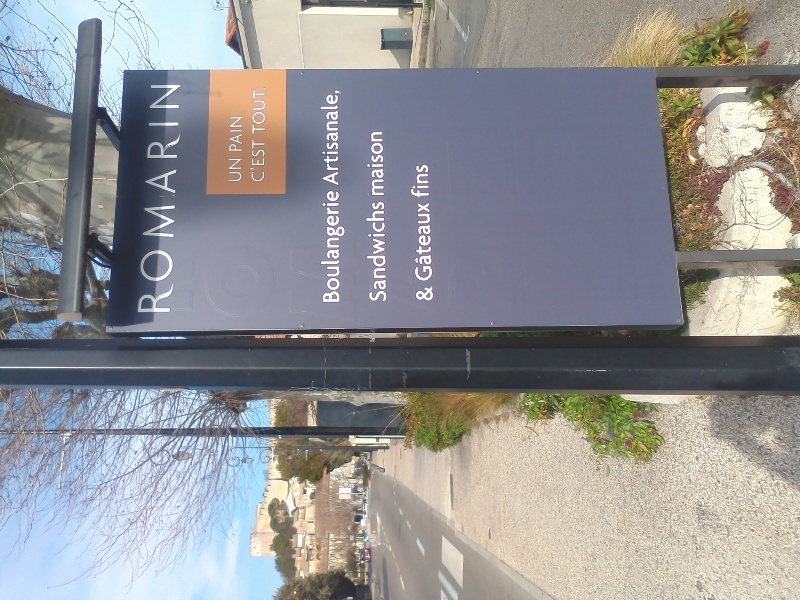text: (161, 83, 176, 315), (149, 83, 160, 315), (321, 190, 336, 306), (369, 199, 384, 303), (321, 88, 336, 187), (177, 83, 183, 315), (337, 190, 349, 306), (417, 201, 432, 283), (209, 244, 224, 318), (225, 244, 240, 318), (241, 244, 256, 318), (257, 244, 272, 318), (369, 130, 384, 197), (337, 88, 343, 187), (257, 86, 268, 135), (363, 199, 368, 303), (417, 164, 431, 199), (257, 138, 267, 183), (385, 199, 389, 303), (229, 116, 240, 152), (412, 201, 416, 283), (228, 158, 240, 183), (273, 244, 277, 318), (417, 285, 432, 302), (251, 86, 256, 135), (409, 164, 416, 199), (251, 138, 256, 183), (205, 244, 208, 318), (318, 88, 320, 187), (241, 116, 244, 152), (433, 201, 434, 283), (385, 130, 386, 197), (241, 158, 243, 183), (415, 285, 416, 302), (433, 285, 434, 302)
